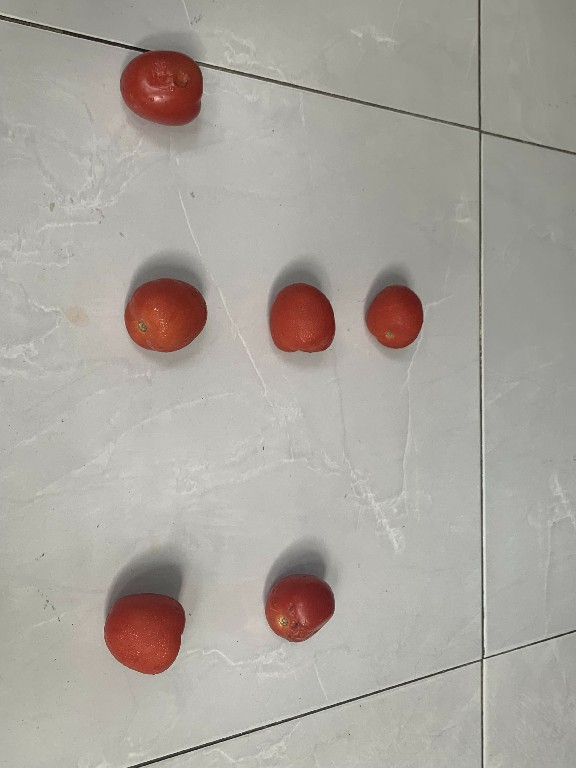NG: (114, 42, 206, 135), (259, 572, 337, 644)
OK: (97, 589, 185, 678), (116, 271, 207, 354), (266, 278, 338, 357), (362, 281, 424, 351)
